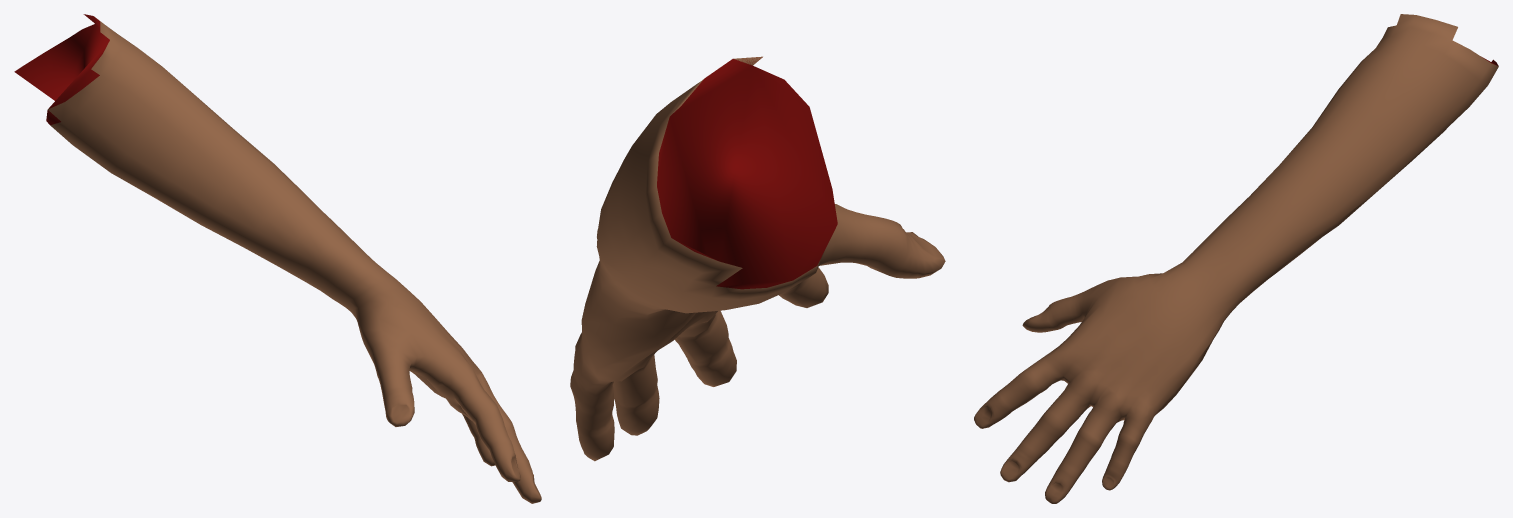
The model's file is SM_Part_M2_arm_l.gltf.
3 views of the same model, side by side, from view 1: azimuth 30°, elevation 25°; view 2: azimuth 150°, elevation 25°; view 3: azimuth 270°, elevation 25° (orthographic). The views are drawn at different scales.
Visible parts, largest first — view 1: SM_Part_M2_arm_l; view 2: SM_Part_M2_arm_l; view 3: SM_Part_M2_arm_l.
Boxes of the visible parts, x1,y1,x2,y2 form: SM_Part_M2_arm_l: (14,14,541,503); SM_Part_M2_arm_l: (570,56,945,461); SM_Part_M2_arm_l: (974,14,1498,503).
Size of the model in its own units: 0.2264 by 0.2834 by 0.3591.
